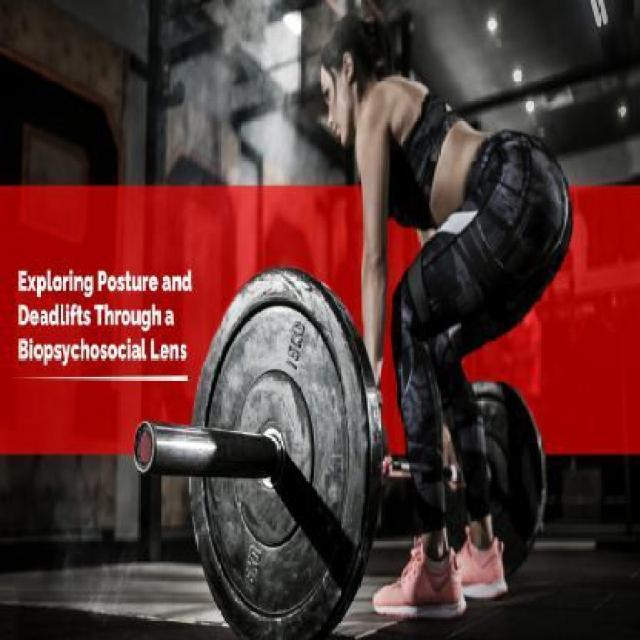barbell: (133, 262, 388, 640)
